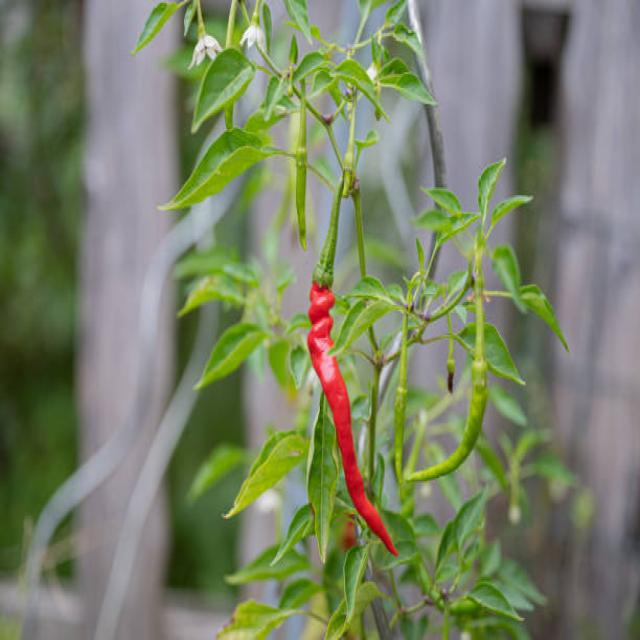Ripe: (308, 282, 398, 555)
Unripe: (411, 361, 488, 481), (295, 151, 308, 249), (395, 388, 408, 484)
